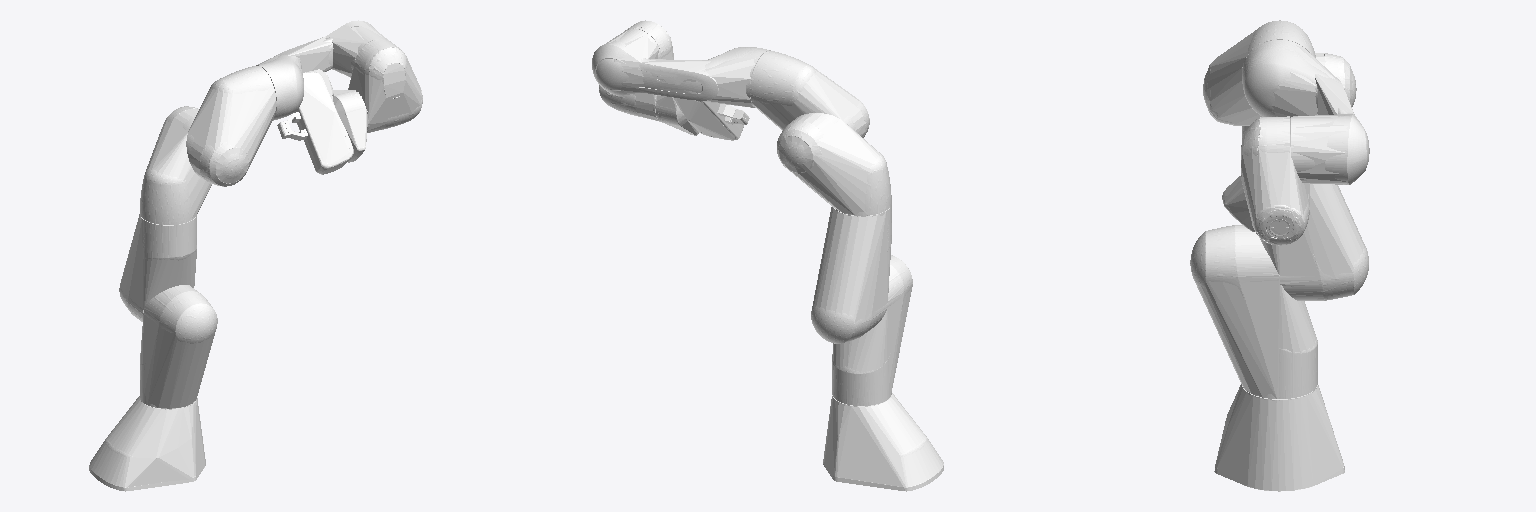
--- Render facts (derived) ---
The picture shows the robot from 3 angles, left to right: view 1: azimuth 30°, elevation 25°; view 2: azimuth 150°, elevation 25°; view 3: azimuth 270°, elevation 25°; orthographic projection.
Model converted_robot with 22 links and 21 joints (7 revolute, 14 fixed), rooted at world, posed all joints at 0 but 1 set to mid-range because 0 is outside their limits (joint4 = -1.57).
Links seen in each view (by area): view 1: link0, link1, link4, link3, link2, link6, link5, hand, link7; view 2: link2, link0, link5, link3, link1, link4, link6, hand, link7; view 3: link1, link5, link0, link2, link6, link4, link3, link7.
Link boxes in pixels (x1,y1,x2,y2): link0: [89, 396, 205, 491]; link1: [140, 285, 217, 408]; link4: [186, 66, 276, 186]; link3: [140, 106, 211, 224]; link2: [119, 214, 196, 321]; link6: [348, 39, 422, 132]; link5: [256, 20, 387, 120]; hand: [294, 69, 353, 174]; link7: [332, 90, 367, 162]; link2: [811, 205, 891, 343]; link0: [823, 393, 943, 491]; link5: [592, 29, 770, 107]; link3: [777, 113, 891, 215]; link1: [832, 255, 912, 405]; link4: [750, 51, 869, 137]; link6: [599, 20, 673, 121]; hand: [672, 97, 743, 140]; link7: [655, 95, 698, 135]; link1: [1190, 225, 1317, 398]; link5: [1242, 40, 1369, 184]; link0: [1214, 384, 1344, 491]; link2: [1260, 184, 1368, 300]; link6: [1241, 116, 1309, 245]; link4: [1203, 20, 1315, 125]; link3: [1242, 53, 1356, 137]; link7: [1224, 179, 1309, 231].
Size in the robot's own frame: 0.7023 by 0.2593 by 0.7866 metres.
71 mesh visuals loaded from 67 distinct referenced files (67 binary STL).

The robot description file, URDF, robot "converted_robot":
<?xml version="1.0" ?>
<robot name="converted_robot">
   <!--generated with mjcf_urdf_simple_converter (https://github.com/Yasu31/mjcf_urdf_simple_converter)-->
   <link name="world">
      <inertial>
         <origin xyz="0.0 0.0 0.0" rpy="0.0 0.0 0.0"/>
         <mass value="0.0"/>
         <inertia ixx="0.0" iyy="0.0" izz="0.0" ixy="0" ixz="0" iyz="0"/>
      </inertial>
   </link>
   <link name="link0">
      <inertial>
         <origin xyz="-0.041018 -0.00014 0.049974" rpy="2.9931847771355056 -1.4401460588374397 0.14998526383499944"/>
         <mass value="0.629769"/>
         <inertia ixx="0.004304650123430994" iyy="0.0038798390919025367" izz="0.0031305107846664564" ixy="0" ixz="0" iyz="0"/>
      </inertial>
      <visual name="link0_0">
         <origin xyz="-0.02434170827864863 0.06898584107657625 0.037001297313774606" rpy="0.880973363716189 -0.0009012197760431828 1.7310598119246745"/>
         <geometry>
            <mesh filename="package://panda_description/converted_link0_0.stl"/>
         </geometry>
         <material name="white"/>
      </visual>
      <visual name="link0_1">
         <origin xyz="-0.025005136793976982 0.07288967710097176 0.03697875321042992" rpy="2.3542244690660272 -0.06627609603911444 1.6549332552996283"/>
         <geometry>
            <mesh filename="package://panda_description/converted_link0_1.stl"/>
         </geometry>
         <material name="white"/>
      </visual>
      <visual name="link0_2">
         <origin xyz="-0.02374683403129674 -0.06535296272360118 0.06299932311266318" rpy="1.570400625854145 -0.00574301314133141 -0.1658989101581949"/>
         <geometry>
            <mesh filename="package://panda_description/converted_link0_2.stl"/>
         </geometry>
         <material name="white"/>
      </visual>
      <visual name="link0_3">
         <origin xyz="-0.02488420743263477 -0.07268133745438186 0.06293128746546782" rpy="0.8625312366532398 0.08519240253179539 1.2866321540389136"/>
         <geometry>
            <mesh filename="package://panda_description/converted_link0_3.stl"/>
         </geometry>
         <material name="white"/>
      </visual>
      <visual name="link0_4">
         <origin xyz="-0.06482117710661212 -0.06560424884993189 0.04800137992090077" rpy="0.030375863183620733 0.012032273331113785 1.4114311484698745"/>
         <geometry>
            <mesh filename="package://panda_description/converted_link0_4.stl"/>
         </geometry>
         <material name="white"/>
      </visual>
      <visual name="link0_5">
         <origin xyz="-0.05963885265197145 0.05788506811766412 0.03690848430709659" rpy="1.7514346619276953 0.0 1.7317833118277146"/>
         <geometry>
            <mesh filename="package://panda_description/converted_link0_5.stl"/>
         </geometry>
         <material name="white"/>
      </visual>
      <visual name="link0_7">
         <origin xyz="0.011052803835438744 -0.07200003137004433 0.046062701971281546" rpy="-0.12475356481072142 0.0026193383977184403 1.4119155812641373"/>
         <geometry>
            <mesh filename="package://panda_description/converted_link0_7.stl"/>
         </geometry>
         <material name="white"/>
      </visual>
      <visual name="link0_8">
         <origin xyz="-0.029952925627160853 -3.448017186102211e-05 0.05349454489239895" rpy="-0.0013455850606793884 -1.1356517229066097 -3.1380126798201555"/>
         <geometry>
            <mesh filename="package://panda_description/converted_link0_8.stl"/>
         </geometry>
         <material name="white"/>
      </visual>
      <visual name="link0_9">
         <origin xyz="-0.024999274401298205 -0.07303207273073183 0.032895042414244305" rpy="1.8630089058543375 -1.5551604165057409 -0.4334036807559073"/>
         <geometry>
            <mesh filename="package://panda_description/converted_link0_9.stl"/>
         </geometry>
         <material name="white"/>
      </visual>
      <visual name="link0_10">
         <origin xyz="-0.023787200255619093 -0.06548630800088073 0.03297410449192426" rpy="1.545559739370406 -0.011791349830911013 -0.15464279381434776"/>
         <geometry>
            <mesh filename="package://panda_description/converted_link0_10.stl"/>
         </geometry>
         <material name="white"/>
      </visual>
      <visual name="link0_11">
         <origin xyz="0.011042833195986071 0.07199695886119808 0.046087441451277696" rpy="-0.12477058126482465 -0.0025225701136615264 1.73149025707691"/>
         <geometry>
            <mesh filename="package://panda_description/converted_link0_11.stl"/>
         </geometry>
         <material name="white"/>
      </visual>
      <visual name="link0_c">
         <origin xyz="-0.029189765433072147 -0.0008794649788944781 0.0566031915141631" rpy="0.07341050648529257 -1.1999954549116756 3.0813768508296935"/>
         <geometry>
            <mesh filename="package://panda_description/converted_link0_c.stl"/>
         </geometry>
         <material name="white"/>
      </visual>
   </link>
   <joint type="fixed" name="world2link0_fixed">
      <parent link="world"/>
      <child link="link0"/>
      <origin xyz="0.0 0.0 0.0" rpy="0.0 0.0 0.0"/>
   </joint>
   <link name="link1">
      <inertial>
         <origin xyz="0.003875 0.002081 -0.04762" rpy="-0.009398424463752386 -0.027576527378002424 1.5581062750829506"/>
         <mass value="4.970684"/>
         <inertia ixx="0.7071370144883009" iyy="0.7034354292338564" izz="0.00852455627784294" ixy="0" ixz="0" iyz="0"/>
      </inertial>
      <visual name="link1">
         <origin xyz="2.2415553023489027e-06 -0.0324793865141835 -0.06757586693056468" rpy="0.38337043294216616 0.0001406289803520533 -0.0003788308259348727"/>
         <geometry>
            <mesh filename="package://panda_description/converted_link1.stl"/>
         </geometry>
         <material name="white"/>
      </visual>
      <visual name="link1_c">
         <origin xyz="1.139898131675401e-05 -0.03126552803743275 -0.06937330598619522" rpy="0.3507575596779383 -0.00032182734340535646 0.0006491282822314315"/>
         <geometry>
            <mesh filename="package://panda_description/converted_link1_c.stl"/>
         </geometry>
         <material name="white"/>
      </visual>
   </link>
   <link name="joint1_jointbody">
      <inertial>
         <origin xyz="0.0 0.0 0.0" rpy="0.0 0.0 0.0"/>
         <mass value="0.001"/>
         <inertia ixx="1e-09" iyy="1e-09" izz="1e-09" ixy="0" ixz="0" iyz="0"/>
      </inertial>
   </link>
   <joint type="revolute" name="joint1">
      <parent link="link0"/>
      <child link="joint1_jointbody"/>
      <origin xyz="0.0 0.0 0.333" rpy="0.0 0.0 0.0"/>
      <axis xyz="0.0 0.0 1.0"/>
      <limit lower="-2.8973" upper="2.8973" effort="100" velocity="100"/>
   </joint>
   <joint type="fixed" name="joint1_offset">
      <parent link="joint1_jointbody"/>
      <child link="link1"/>
      <origin xyz="-0.0 -0.0 -0.0" rpy="0.0 0.0 0.0"/>
   </joint>
   <link name="link2">
      <inertial>
         <origin xyz="-0.003141 -0.02872 0.003495" rpy="-2.351445390606804 -0.9617881563253395 -0.7229855148468698"/>
         <mass value="0.646926"/>
         <inertia ixx="0.03103264256517663" iyy="0.02830010693683385" izz="0.0027342504979895274" ixy="0" ixz="0" iyz="0"/>
      </inertial>
      <visual name="link2">
         <origin xyz="3.082552814544877e-06 -0.0686027528932163 0.03220972991497953" rpy="1.9510754572522944 -0.0003910639464024257 -0.0001327986982335716"/>
         <geometry>
            <mesh filename="package://panda_description/converted_link2.stl"/>
         </geometry>
         <material name="white"/>
      </visual>
      <visual name="link2_c">
         <origin xyz="-1.3176553398219796e-05 -0.07032155252075616 0.031178239145109848" rpy="1.9167766250212854 3.8633865331982875e-05 -0.00017520097652501398"/>
         <geometry>
            <mesh filename="package://panda_description/converted_link2_c.stl"/>
         </geometry>
         <material name="white"/>
      </visual>
   </link>
   <link name="joint2_jointbody">
      <inertial>
         <origin xyz="0.0 0.0 0.0" rpy="0.0 0.0 0.0"/>
         <mass value="0.001"/>
         <inertia ixx="1e-09" iyy="1e-09" izz="1e-09" ixy="0" ixz="0" iyz="0"/>
      </inertial>
   </link>
   <joint type="revolute" name="joint2">
      <parent link="link1"/>
      <child link="joint2_jointbody"/>
      <origin xyz="0.0 0.0 0.0" rpy="-1.5707963267948957 0.0 0.0"/>
      <axis xyz="0.0 0.0 1.0"/>
      <limit lower="-1.7628" upper="1.7628" effort="100" velocity="100"/>
   </joint>
   <joint type="fixed" name="joint2_offset">
      <parent link="joint2_jointbody"/>
      <child link="link2"/>
      <origin xyz="-0.0 -0.0 -0.0" rpy="0.0 0.0 0.0"/>
   </joint>
   <link name="link3">
      <inertial>
         <origin xyz="0.027518 0.039252 -0.066502" rpy="0.3778501466112161 0.35082398169136897 1.700415077209322"/>
         <mass value="3.228604"/>
         <inertia ixx="0.04150138828861061" iyy="0.041479257270665607" izz="0.0012463544407238245" ixy="0" ixz="0" iyz="0"/>
      </inertial>
      <visual name="link3_0">
         <origin xyz="0.041640068238247625 0.02444145064489676 -0.03727492899749336" rpy="0.5706582651359984 -0.7242337013714822 2.9041155029297663"/>
         <geometry>
            <mesh filename="package://panda_description/converted_link3_0.stl"/>
         </geometry>
         <material name="white"/>
      </visual>
      <visual name="link3_1">
         <origin xyz="0.021553479391113937 -0.011223170495539583 -0.011548319295510683" rpy="-3.120213348556372 -1.0597565825250004 -1.4907529125912147"/>
         <geometry>
            <mesh filename="package://panda_description/converted_link3_1.stl"/>
         </geometry>
         <material name="white"/>
      </visual>
      <visual name="link3_2">
         <origin xyz="0.05687671258214232 -0.011394921134909891 -0.061174465035796516" rpy="0.001435371332802804 -0.007864445829217637 2.35018648336946"/>
         <geometry>
            <mesh filename="package://panda_description/converted_link3_2.stl"/>
         </geometry>
         <material name="white"/>
      </visual>
      <visual name="link3_3">
         <origin xyz="0.0774911722691585 0.07963346976350043 -0.004022888793941207" rpy="0.9103807155185194 0.053157500438791194 1.6361659571787897"/>
         <geometry>
            <mesh filename="package://panda_description/converted_link3_3.stl"/>
         </geometry>
         <material name="white"/>
      </visual>
      <visual name="link3_c">
         <origin xyz="0.04434830616977217 0.02492832585533832 -0.038129984535498415" rpy="0.626428153968636 -0.648912402886591 2.7888150643653695"/>
         <geometry>
            <mesh filename="package://panda_description/converted_link3_c.stl"/>
         </geometry>
         <material name="white"/>
      </visual>
   </link>
   <link name="joint3_jointbody">
      <inertial>
         <origin xyz="0.0 0.0 0.0" rpy="0.0 0.0 0.0"/>
         <mass value="0.001"/>
         <inertia ixx="1e-09" iyy="1e-09" izz="1e-09" ixy="0" ixz="0" iyz="0"/>
      </inertial>
   </link>
   <joint type="revolute" name="joint3">
      <parent link="link2"/>
      <child link="joint3_jointbody"/>
      <origin xyz="0.0 -0.316 0.0" rpy="1.5707963267948963 0.0 0.0"/>
      <axis xyz="0.0 0.0 1.0"/>
      <limit lower="-2.8973" upper="2.8973" effort="100" velocity="100"/>
   </joint>
   <joint type="fixed" name="joint3_offset">
      <parent link="joint3_jointbody"/>
      <child link="link3"/>
      <origin xyz="-0.0 -0.0 -0.0" rpy="0.0 0.0 0.0"/>
   </joint>
   <link name="link4">
      <inertial>
         <origin xyz="-0.05317 0.104419 0.027454" rpy="0.9491374145817448 -0.7651341090237642 0.9696855662634021"/>
         <mass value="3.587895"/>
         <inertia ixx="0.03495964042412706" iyy="0.028148276242039156" izz="0.010620083333833793" ixy="0" ixz="0" iyz="0"/>
      </inertial>
      <visual name="link4_0">
         <origin xyz="-0.025622488327255118 0.06118521662292073 -0.011393831419087433" rpy="-1.5781503842543603 -0.791264048531453 -3.129597040233699"/>
         <geometry>
            <mesh filename="package://panda_description/converted_link4_0.stl"/>
         </geometry>
         <material name="white"/>
      </visual>
      <visual name="link4_1">
         <origin xyz="-0.041551945541200064 0.0386938054188419 0.0240401850668444" rpy="1.1469171347861942 0.32720361122677777 0.6576570081488589"/>
         <geometry>
            <mesh filename="package://panda_description/converted_link4_1.stl"/>
         </geometry>
         <material name="white"/>
      </visual>
      <visual name="link4_2">
         <origin xyz="-0.005009009022661778 0.004010283391626417 0.07963447115932043" rpy="0.01728704864213415 -1.486693348601789 2.462376326505357"/>
         <geometry>
            <mesh filename="package://panda_description/converted_link4_2.stl"/>
         </geometry>
         <material name="white"/>
      </visual>
      <visual name="link4_3">
         <origin xyz="-0.060935694895702566 0.011544521319742486 -0.011228485394216723" rpy="-0.11249836460882134 -0.5091463835382632 1.6149866607207919"/>
         <geometry>
            <mesh filename="package://panda_description/converted_link4_3.stl"/>
         </geometry>
         <material name="white"/>
      </visual>
      <visual name="link4_c">
         <origin xyz="-0.038550294327056006 0.03952560974766748 0.024716241456280232" rpy="1.1575252530204931 0.36233734062035716 0.6286469250141417"/>
         <geometry>
            <mesh filename="package://panda_description/converted_link4_c.stl"/>
         </geometry>
         <material name="white"/>
      </visual>
   </link>
   <link name="joint4_jointbody">
      <inertial>
         <origin xyz="0.0 0.0 0.0" rpy="0.0 0.0 0.0"/>
         <mass value="0.001"/>
         <inertia ixx="1e-09" iyy="1e-09" izz="1e-09" ixy="0" ixz="0" iyz="0"/>
      </inertial>
   </link>
   <joint type="revolute" name="joint4">
      <parent link="link3"/>
      <child link="joint4_jointbody"/>
      <origin xyz="0.0825 0.0 0.0" rpy="1.5707963267948963 0.0 0.0"/>
      <axis xyz="0.0 0.0 1.0"/>
      <limit lower="-3.0718" upper="-0.0698" effort="100" velocity="100"/>
   </joint>
   <joint type="fixed" name="joint4_offset">
      <parent link="joint4_jointbody"/>
      <child link="link4"/>
      <origin xyz="-0.0 -0.0 -0.0" rpy="0.0 0.0 0.0"/>
   </joint>
   <link name="link5">
      <inertial>
         <origin xyz="-0.011953 0.041065 -0.038437" rpy="-0.044814900263277224 0.13901987254385828 -0.28689982178911855"/>
         <mass value="1.225946"/>
         <inertia ixx="0.036762538266730406" iyy="0.028853091260661545" izz="0.008034370472607986" ixy="0" ixz="0" iyz="0"/>
      </inertial>
      <visual name="link5_0">
         <origin xyz="-0.00012909492629801462 0.09575388251980099 -0.032729627427273554" rpy="0.0021646835541119236 0.04994665119289898 1.567102784696114"/>
         <geometry>
            <mesh filename="package://panda_description/converted_link5_0.stl"/>
         </geometry>
         <material name="white"/>
      </visual>
      <visual name="link5_1">
         <origin xyz="-0.010146972443801154 0.10322721118137058 -0.11142128916989294" rpy="0.12574712873999883 0.1740382997721901 1.6920328910758133"/>
         <geometry>
            <mesh filename="package://panda_description/converted_link5_1.stl"/>
         </geometry>
         <material name="white"/>
      </visual>
      <visual name="link5_2">
         <origin xyz="-1.4686699630523936e-07 0.04425269920212681 -0.1112985359040258" rpy="-0.277000339204742 2.4900251497594894e-05 6.554603773703538e-05"/>
         <geometry>
            <mesh filename="package://panda_description/converted_link5_2.stl"/>
         </geometry>
         <material name="white"/>
      </visual>
      <visual name="link5_c0">
         <origin xyz="0.0009732588248875004 0.01992222155582667 -0.2091069569367147" rpy="-2.9667461948525857 -0.9061652263669018 -1.8724935166030865"/>
         <geometry>
            <mesh filename="package://panda_description/converted_link5_c0.stl"/>
         </geometry>
         <material name="white"/>
      </visual>
      <visual name="link5_c1">
         <origin xyz="-0.00023507017418093157 0.08005924943045238 -0.1211534524078704" rpy="0.003785613762778528 0.24683558048800136 1.566413582373388"/>
         <geometry>
            <mesh filename="package://panda_description/converted_link5_c1.stl"/>
         </geometry>
         <material name="white"/>
      </visual>
      <visual name="link5_c2">
         <origin xyz="0.00015025343019191157 0.06918297231373394 -0.0045388308900191476" rpy="1.1780917965966649 -0.005182717314899277 0.005207657314431291"/>
         <geometry>
            <mesh filename="package://panda_description/converted_link5_c2.stl"/>
         </geometry>
         <material name="white"/>
      </visual>
   </link>
   <link name="joint5_jointbody">
      <inertial>
         <origin xyz="0.0 0.0 0.0" rpy="0.0 0.0 0.0"/>
         <mass value="0.001"/>
         <inertia ixx="1e-09" iyy="1e-09" izz="1e-09" ixy="0" ixz="0" iyz="0"/>
      </inertial>
   </link>
   <joint type="revolute" name="joint5">
      <parent link="link4"/>
      <child link="joint5_jointbody"/>
      <origin xyz="-0.0825 0.384 0.0" rpy="-1.5707963267948957 0.0 0.0"/>
      <axis xyz="0.0 0.0 1.0"/>
      <limit lower="-2.8973" upper="2.8973" effort="100" velocity="100"/>
   </joint>
   <joint type="fixed" name="joint5_offset">
      <parent link="joint5_jointbody"/>
      <child link="link5"/>
      <origin xyz="-0.0 -0.0 -0.0" rpy="0.0 0.0 0.0"/>
   </joint>
   <link name="link6">
      <inertial>
         <origin xyz="0.060149 -0.014117 -0.010517" rpy="0.5130248250154139 -1.226242130979657 2.5246615081940447"/>
         <mass value="1.666555"/>
         <inertia ixx="0.005842761226567758" iyy="0.004310373704197247" izz="0.001597865069234999" ixy="0" ixz="0" iyz="0"/>
      </inertial>
      <visual name="link6_0">
         <origin xyz="0.02538686447802162 -0.015517999517566645 -0.005139967609184323" rpy="0.16938182569949167 -1.5174186885981678 2.459071962290328"/>
         <geometry>
            <mesh filename="package://panda_description/converted_link6_0.stl"/>
         </geometry>
         <material name="white"/>
      </visual>
      <visual name="link6_1">
         <origin xyz="9.689128832379959e-05 0.0014892221633303964 0.052967305243251064" rpy="-1.7817827520867562 -1.469193019363885 -3.137555930389527"/>
         <geometry>
            <mesh filename="package://panda_description/converted_link6_1.stl"/>
         </geometry>
         <material name="white"/>
      </visual>
      <visual name="link6_2">
         <origin xyz="0.10335279374141482 0.06819413403472291 -0.0005820739711053017" rpy="1.4199871988638346 -0.00991189976398843 1.3432543848060097"/>
         <geometry>
            <mesh filename="package://panda_description/converted_link6_2.stl"/>
         </geometry>
         <material name="white"/>
      </visual>
      <visual name="link6_3">
         <origin xyz="0.08820547902869498 0.07772552742710913 -0.010604832221086087" rpy="0.0 0.0 0.0"/>
         <geometry>
            <mesh filename="package://panda_description/converted_link6_3.stl"/>
         </geometry>
         <material name="white"/>
      </visual>
      <visual name="link6_4">
         <origin xyz="0.09866820805357215 0.07588488001934049 -3.81838160576121e-06" rpy="1.5707963267948966 0.0 1.5707963267948966"/>
         <geometry>
            <mesh filename="package://panda_description/converted_link6_4.stl"/>
         </geometry>
         <material name="white"/>
      </visual>
      <visual name="link6_5">
         <origin xyz="0.08820306922578453 0.07772792027195963 0.010619455932352537" rpy="0.0 0.0 0.0"/>
         <geometry>
            <mesh filename="package://panda_description/converted_link6_5.stl"/>
         </geometry>
         <material name="white"/>
      </visual>
      <visual name="link6_6">
         <origin xyz="0.07775599126433871 0.07956951222410712 -2.4452554468482235e-06" rpy="1.5707963267948966 0.0 1.5707963267948966"/>
         <geometry>
            <mesh filename="package://panda_description/converted_link6_6.stl"/>
         </geometry>
         <material name="white"/>
      </visual>
      <visual name="link6_7">
         <origin xyz="0.06338933259232485 0.08160700790590893 -1.3937560629892504e-07" rpy="0.0 0.0 0.0"/>
         <geometry>
            <mesh filename="package://panda_description/converted_link6_7.stl"/>
         </geometry>
         <material name="white"/>
      </visual>
      <visual name="link6_8">
         <origin xyz="0.11443524703111396 0.07093671511705132 -1.2390757832945407e-06" rpy="0.0 0.0 0.0"/>
         <geometry>
            <mesh filename="package://panda_description/converted_link6_8.stl"/>
         </geometry>
         <material name="white"/>
      </visual>
      <visual name="link6_9">
         <origin xyz="-0.0007293920031106048 -0.00010126877906188475 0.05253737664613466" rpy="-0.012449674714164694 -1.4689421759503425 3.141592653589792"/>
         <geometry>
            <mesh filename="package://panda_description/converted_link6_9.stl"/>
         </geometry>
         <material name="white"/>
      </visual>
      <visual name="link6_10">
         <origin xyz="0.09152592175245416 0.0757530570043529 -6.295970548351355e-05" rpy="1.6008551676500014 -0.0005903012823613718 1.3515726366307061"/>
         <geometry>
            <mesh filename="package://panda_description/converted_link6_10.stl"/>
         </geometry>
         <material name="white"/>
      </visual>
      <visual name="link6_11">
         <origin xyz="0.08805238798691446 0.07680706807855985 -1.2221260829161016e-05" rpy="0.0 0.0 1.3960084451673758"/>
         <geometry>
            <mesh filename="package://panda_description/converted_link6_11.stl"/>
         </geometry>
         <material name="white"/>
      </visual>
      <visual name="link6_12">
         <origin xyz="0.08830262427138909 0.07748927077959734 -0.024865583303171047" rpy="0.0 0.0 0.0"/>
         <geometry>
            <mesh filename="package://panda_description/converted_link6_12.stl"/>
         </geometry>
         <material name="white"/>
      </visual>
      <visual name="link6_13">
         <origin xyz="0.08817030186691406 0.07745552562261102 0.025032424929417766" rpy="0.0 0.0 0.0"/>
         <geometry>
            <mesh filename="package://panda_description/converted_link6_13.stl"/>
         </geometry>
         <material name="white"/>
      </visual>
      <visual name="link6_14">
         <origin xyz="0.007414994534614738 0.00012494443217778557 0.04372135866398126" rpy="0.028641362656910196 -1.4710580780940545 3.124202338178222"/>
         <geometry>
            <mesh filename="package://panda_description/converted_link6_14.stl"/>
         </geometry>
         <material name="white"/>
      </visual>
      <visual name="link6_15">
         <origin xyz="0.08954532269660534 0.07420171067115874 -2.5736658022989506e-05" rpy="1.545020808617562 5.602602767806886e-05 1.3505365066848027"/>
         <geometry>
            <mesh filename="package://panda_description/converted_link6_15.stl"/>
         </geometry>
         <material name="white"/>
      </visual>
      <visual name="link6_16">
         <origin xyz="0.058400500168428585 0.0035178914667928943 0.008369866685103824" rpy="2.9469650358345403 -1.3099440708155625 0.18028473465261263"/>
         <geometry>
            <mesh filename="package://panda_description/converted_link6_16.stl"/>
         </geometry>
         <material name="white"/>
      </visual>
      <visual name="link6_c">
         <origin xyz="0.05100229436563991 0.00693267296652053 0.006168993350723507" rpy="-3.0615998737983503 -1.4277689715854656 0.048520706407402026"/>
         <geometry>
            <mesh filename="package://panda_description/converted_link6_c.stl"/>
         </geometry>
         <material name="white"/>
      </visual>
   </link>
   <link name="joint6_jointbody">
      <inertial>
         <origin xyz="0.0 0.0 0.0" rpy="0.0 0.0 0.0"/>
         <mass value="0.001"/>
         <inertia ixx="1e-09" iyy="1e-09" izz="1e-09" ixy="0" ixz="0" iyz="0"/>
      </inertial>
   </link>
   <joint type="revolute" name="joint6">
      <parent link="link5"/>
      <child link="joint6_jointbody"/>
      <origin xyz="0.0 0.0 0.0" rpy="1.5707963267948963 0.0 0.0"/>
      <axis xyz="0.0 0.0 1.0"/>
      <limit lower="-0.0175" upper="3.7525" effort="100" velocity="100"/>
   </joint>
   <joint type="fixed" name="joint6_offset">
      <parent link="joint6_jointbody"/>
      <child link="link6"/>
      <origin xyz="-0.0 -0.0 -0.0" rpy="0.0 0.0 0.0"/>
   </joint>
   <link name="link7">
      <inertial>
         <origin xyz="0.010517 -0.004252 0.061597" rpy="-0.16143881793285997 0.13793462387520372 -0.11924774686192664"/>
         <mass value="0.735522"/>
         <inertia ixx="0.012734492874724473" iyy="0.01010547714435622" izz="0.004518029980919309" ixy="0" ixz="0" iyz="0"/>
      </inertial>
      <visual name="link7_0">
         <origin xyz="0.0417779426692942 0.04183594153686578 0.08217258109746292" rpy="-1.5847380549916703 -1.3546061346436344 -2.3566710587689474"/>
         <geometry>
            <mesh filename="package://panda_description/converted_link7_0.stl"/>
         </geometry>
         <material name="white"/>
      </visual>
      <visual name="link7_1">
         <origin xyz="0.06381389846298816 0.017703890911316744 0.08298637529119146" rpy="1.8028623083017221 0.00204124247127746 -0.7013431721034276"/>
         <geometry>
            <mesh filename="package://panda_description/converted_link7_1.stl"/>
         </geometry>
         <material name="white"/>
      </visual>
      <visual name="link7_2">
         <origin xyz="-0.03175903413233844 -0.03176074799868773 0.08578121033420426" rpy="-1.6960048566709056 -1.4537424549146334 2.4810845843512017"/>
         <geometry>
            <mesh filename="package://panda_description/converted_link7_2.stl"/>
         </geometry>
         <material name="white"/>
      </visual>
      <visual name="link7_3">
         <origin xyz="-0.03695030723409938 -0.03694226974833503 0.08580172086500923" rpy="0.0 0.0 0.785109248980203"/>
         <geometry>
            <mesh filename="package://panda_description/converted_link7_3.stl"/>
         </geometry>
         <material name="white"/>
      </visual>
      <visual name="link7_4">
         <origin xyz="-0.03770673339557498 -0.0377089860787648 0.08578035625964707" rpy="0.0 0.0 0.7851522524329011"/>
         <geometry>
            <mesh filename="package://panda_description/converted_link7_4.stl"/>
         </geometry>
         <material name="white"/>
      </visual>
      <visual name="link7_5">
         <origin xyz="0.017698489516545266 0.0638384990368043 0.08295575737681099" rpy="1.3374821199933173 0.0024362159157849117 2.271496449874789"/>
         <geometry>
            <mesh filename="package://panda_description/converted_link7_5.stl"/>
         </geometry>
         <material name="white"/>
      </visual>
      <visual name="link7_6">
         <origin xyz="0.041159655074071815 0.04120412941972867 0.06775823859611065" rpy="-1.575019937447098 -1.2906385873622823 -2.352616845843026"/>
         <geometry>
            <mesh filename="package://panda_description/converted_link7_6.stl"/>
         </geometry>
         <material name="white"/>
      </visual>
      <visual name="link7_7">
         <origin xyz="1.216750754237956e-06 4.2939759647026276e-05 0.07774802576613041" rpy="-1.6481695820319127 -1.5676263444402883 -1.495812317959907"/>
         <geometry>
            <mesh filename="package://panda_description/converted_link7_7.stl"/>
         </geometry>
         <material name="white"/>
      </visual>
      <visual name="link7_c">
         <origin xyz="0.010361372115882629 0.010359603871236887 0.07910777287138845" rpy="3.138032285623005 -1.5171405401134985 -2.3520385516245224"/>
         <geometry>
            <mesh filename="package://panda_description/converted_link7_c.stl"/>
         </geometry>
         <material name="white"/>
      </visual>
   </link>
   <link name="joint7_jointbody">
      <inertial>
         <origin xyz="0.0 0.0 0.0" rpy="0.0 0.0 0.0"/>
         <mass value="0.001"/>
         <inertia ixx="1e-09" iyy="1e-09" izz="1e-09" ixy="0" ixz="0" iyz="0"/>
      </inertial>
   </link>
   <joint type="revolute" name="joint7">
      <parent link="link6"/>
      <child link="joint7_jointbody"/>
      <origin xyz="0.088 0.0 0.0" rpy="1.5707963267948963 0.0 0.0"/>
      <axis xyz="0.0 0.0 1.0"/>
      <limit lower="-2.8973" upper="2.8973" effort="100" velocity="100"/>
   </joint>
   <joint type="fixed" name="joint7_offset">
      <parent link="joint7_jointbody"/>
      <child link="link7"/>
      <origin xyz="-0.0 -0.0 -0.0" rpy="0.0 0.0 0.0"/>
   </joint>
   <link name="hand">
      <inertial>
         <origin xyz="-0.01 0.0 0.03" rpy="0.0 0.0 0.0"/>
         <mass value="0.73"/>
         <inertia ixx="0.001" iyy="0.0025" izz="0.0017" ixy="0" ixz="0" iyz="0"/>
      </inertial>
      <visual name="hand_0">
         <origin xyz="-2.5689937505195684e-10 1.0579090220230758e-05 0.01880798633893994" rpy="0.0 -1.5707814500319763 1.5707963267948966"/>
         <geometry>
            <mesh filename="package://panda_description/converted_hand_0.stl"/>
         </geometry>
         <material name="white"/>
      </visual>
      <visual name="hand_1">
         <origin xyz="6.841203182179383e-06 -0.09552084653947497 -0.00647499489433406" rpy="0.36175142289261064 0.000496138560905468 -0.0024154640355614765"/>
         <geometry>
            <mesh filename="package://panda_description/converted_hand_1.stl"/>
         </geometry>
         <material name="white"/>
      </visual>
      <visual name="hand_2">
         <origin xyz="6.350477506285051e-07 -0.06609330323015881 -0.020179779157687844" rpy="1.5699315996932959 0.3154538607455135 -0.0003590725350941515"/>
         <geometry>
            <mesh filename="package://panda_description/converted_hand_2.stl"/>
         </geometry>
         <material name="white"/>
      </visual>
      <visual name="hand_3">
         <origin xyz="3.5900633091964586e-07 0.00315238499265596 0.02972501158379507" rpy="1.5597975505225548 -2.0673477713062383e-05 -1.3983675789530636e-06"/>
         <geometry>
            <mesh filename="package://panda_description/converted_hand_3.stl"/>
         </geometry>
         <material name="white"/>
      </visual>
      <visual name="hand_4">
         <origin xyz="0.0003354762065896528 0.0003980277422166626 0.0031797966297715773" rpy="-1.631769827359122 -1.5702500724977175 -1.4412841033411503"/>
         <geometry>
            <mesh filename="package://panda_description/converted_hand_4.stl"/>
         </geometry>
         <material name="white"/>
      </visual>
      <visual name="hand_c">
         <origin xyz="-2.7661789921839865e-06 -0.0006154695074904285 0.023929521450491726" rpy="1.596544462039754 -0.0004598784919260801 -0.0002290009157634998"/>
         <geometry>
            <mesh filename="package://panda_description/converted_hand_c.stl"/>
         </geometry>
         <material name="white"/>
      </visual>
   </link>
   <joint type="fixed" name="link72hand_fixed">
      <parent link="link7"/>
      <child link="hand"/>
      <origin xyz="0.0 0.0 0.107" rpy="0.0 0.0 -0.7853981284776207"/>
   </joint>
   <link name="tcp">
      <inertial>
         <origin xyz="0.008333333333333333 0.008333333333333333 0.008333333333333333" rpy="0.5235987755982987 -0.6154797086703873 0.7853981633974485"/>
         <mass value="0.004241150082346221"/>
         <inertia ixx="2.3689179404393837e-06" iyy="1.4853450066172545e-06" izz="1.4853450066172543e-06" ixy="0" ixz="0" iyz="0"/>
      </inertial>
   </link>
   <joint type="fixed" name="hand2tcp_fixed">
      <parent link="hand"/>
      <child link="tcp"/>
      <origin xyz="0.0 0.0 0.0584" rpy="0.0 0.0 0.0"/>
   </joint>
   <link name="left_finger">
      <inertial>
         <origin xyz="0.0 0.0 0.0" rpy="0.0 0.0 0.0"/>
         <mass value="0.015"/>
         <inertia ixx="2.375e-06" iyy="2.375e-06" izz="7.5e-07" ixy="0" ixz="0" iyz="0"/>
      </inertial>
      <visual name="finger_0">
         <origin xyz="4.87405543979634e-07 0.01569541148855972 0.016874409201316713" rpy="0.00027537545922584616 -0.07663142631381104 1.571278805360207"/>
         <geometry>
            <mesh filename="package://panda_description/converted_finger_0.stl"/>
         </geometry>
         <material name="white"/>
      </visual>
      <visual name="finger_1">
         <origin xyz="-1.1254475596124346e-06 0.004738647277278446 0.04476995985350133" rpy="1.3088574322175457 0.002891773713866286 1.570139591644182"/>
         <geometry>
            <mesh filename="package://panda_description/converted_finger_1.stl"/>
         </geometry>
         <material name="white"/>
      </visual>
      <visual name="finger_0">
         <origin xyz="4.87405543979634e-07 0.01569541148855972 0.016874409201316713" rpy="0.00027537545922584616 -0.07663142631381104 1.571278805360207"/>
         <geometry>
            <mesh filename="package://panda_description/converted_finger_0.stl"/>
         </geometry>
         <material name="white"/>
      </visual>
   </link>
   <link name="finger_joint1_jointbody">
      <inertial>
         <origin xyz="0.0 0.0 0.0" rpy="0.0 0.0 0.0"/>
         <mass value="0.001"/>
         <inertia ixx="1e-09" iyy="1e-09" izz="1e-09" ixy="0" ixz="0" iyz="0"/>
      </inertial>
   </link>
   <joint type="fixed" name="finger_joint1">
      <parent link="hand"/>
      <child link="finger_joint1_jointbody"/>
      <origin xyz="0.0 0.0 0.0584" rpy="0.0 0.0 0.0"/>
   </joint>
   <joint type="fixed" name="finger_joint1_offset">
      <parent link="finger_joint1_jointbody"/>
      <child link="left_finger"/>
      <origin xyz="-0.0 -0.0 -0.0" rpy="0.0 0.0 0.0"/>
   </joint>
   <link name="right_finger">
      <inertial>
         <origin xyz="0.0 0.0 0.0" rpy="0.0 0.0 0.0"/>
         <mass value="0.015"/>
         <inertia ixx="2.375e-06" iyy="2.375e-06" izz="7.5e-07" ixy="0" ixz="0" iyz="0"/>
      </inertial>
      <visual name="finger_0">
         <origin xyz="4.87405543979634e-07 0.01569541148855972 0.016874409201316713" rpy="0.00027537545922584616 -0.07663142631381104 1.571278805360207"/>
         <geometry>
            <mesh filename="package://panda_description/converted_finger_0.stl"/>
         </geometry>
         <material name="white"/>
      </visual>
      <visual name="finger_1">
         <origin xyz="-1.1254475596124346e-06 0.004738647277278446 0.04476995985350133" rpy="1.3088574322175457 0.002891773713866286 1.570139591644182"/>
         <geometry>
            <mesh filename="package://panda_description/converted_finger_1.stl"/>
         </geometry>
         <material name="white"/>
      </visual>
      <visual name="finger_0">
         <origin xyz="4.87405543979634e-07 0.01569541148855972 0.016874409201316713" rpy="0.00027537545922584616 -0.07663142631381104 1.571278805360207"/>
         <geometry>
            <mesh filename="package://panda_description/converted_finger_0.stl"/>
         </geometry>
         <material name="white"/>
      </visual>
   </link>
   <link name="finger_joint2_jointbody">
      <inertial>
         <origin xyz="0.0 0.0 0.0" rpy="0.0 0.0 0.0"/>
         <mass value="0.001"/>
         <inertia ixx="1e-09" iyy="1e-09" izz="1e-09" ixy="0" ixz="0" iyz="0"/>
      </inertial>
   </link>
   <joint type="fixed" name="finger_joint2">
      <parent link="hand"/>
      <child link="finger_joint2_jointbody"/>
      <origin xyz="0.0 0.0 0.0584" rpy="0.0 0.0 3.141592653589793"/>
   </joint>
   <joint type="fixed" name="finger_joint2_offset">
      <parent link="finger_joint2_jointbody"/>
      <child link="right_finger"/>
      <origin xyz="-0.0 -0.0 -0.0" rpy="0.0 0.0 0.0"/>
   </joint>
   <material name="white">
      <color rgba="1 1 1 1"/>
   </material>
</robot>
